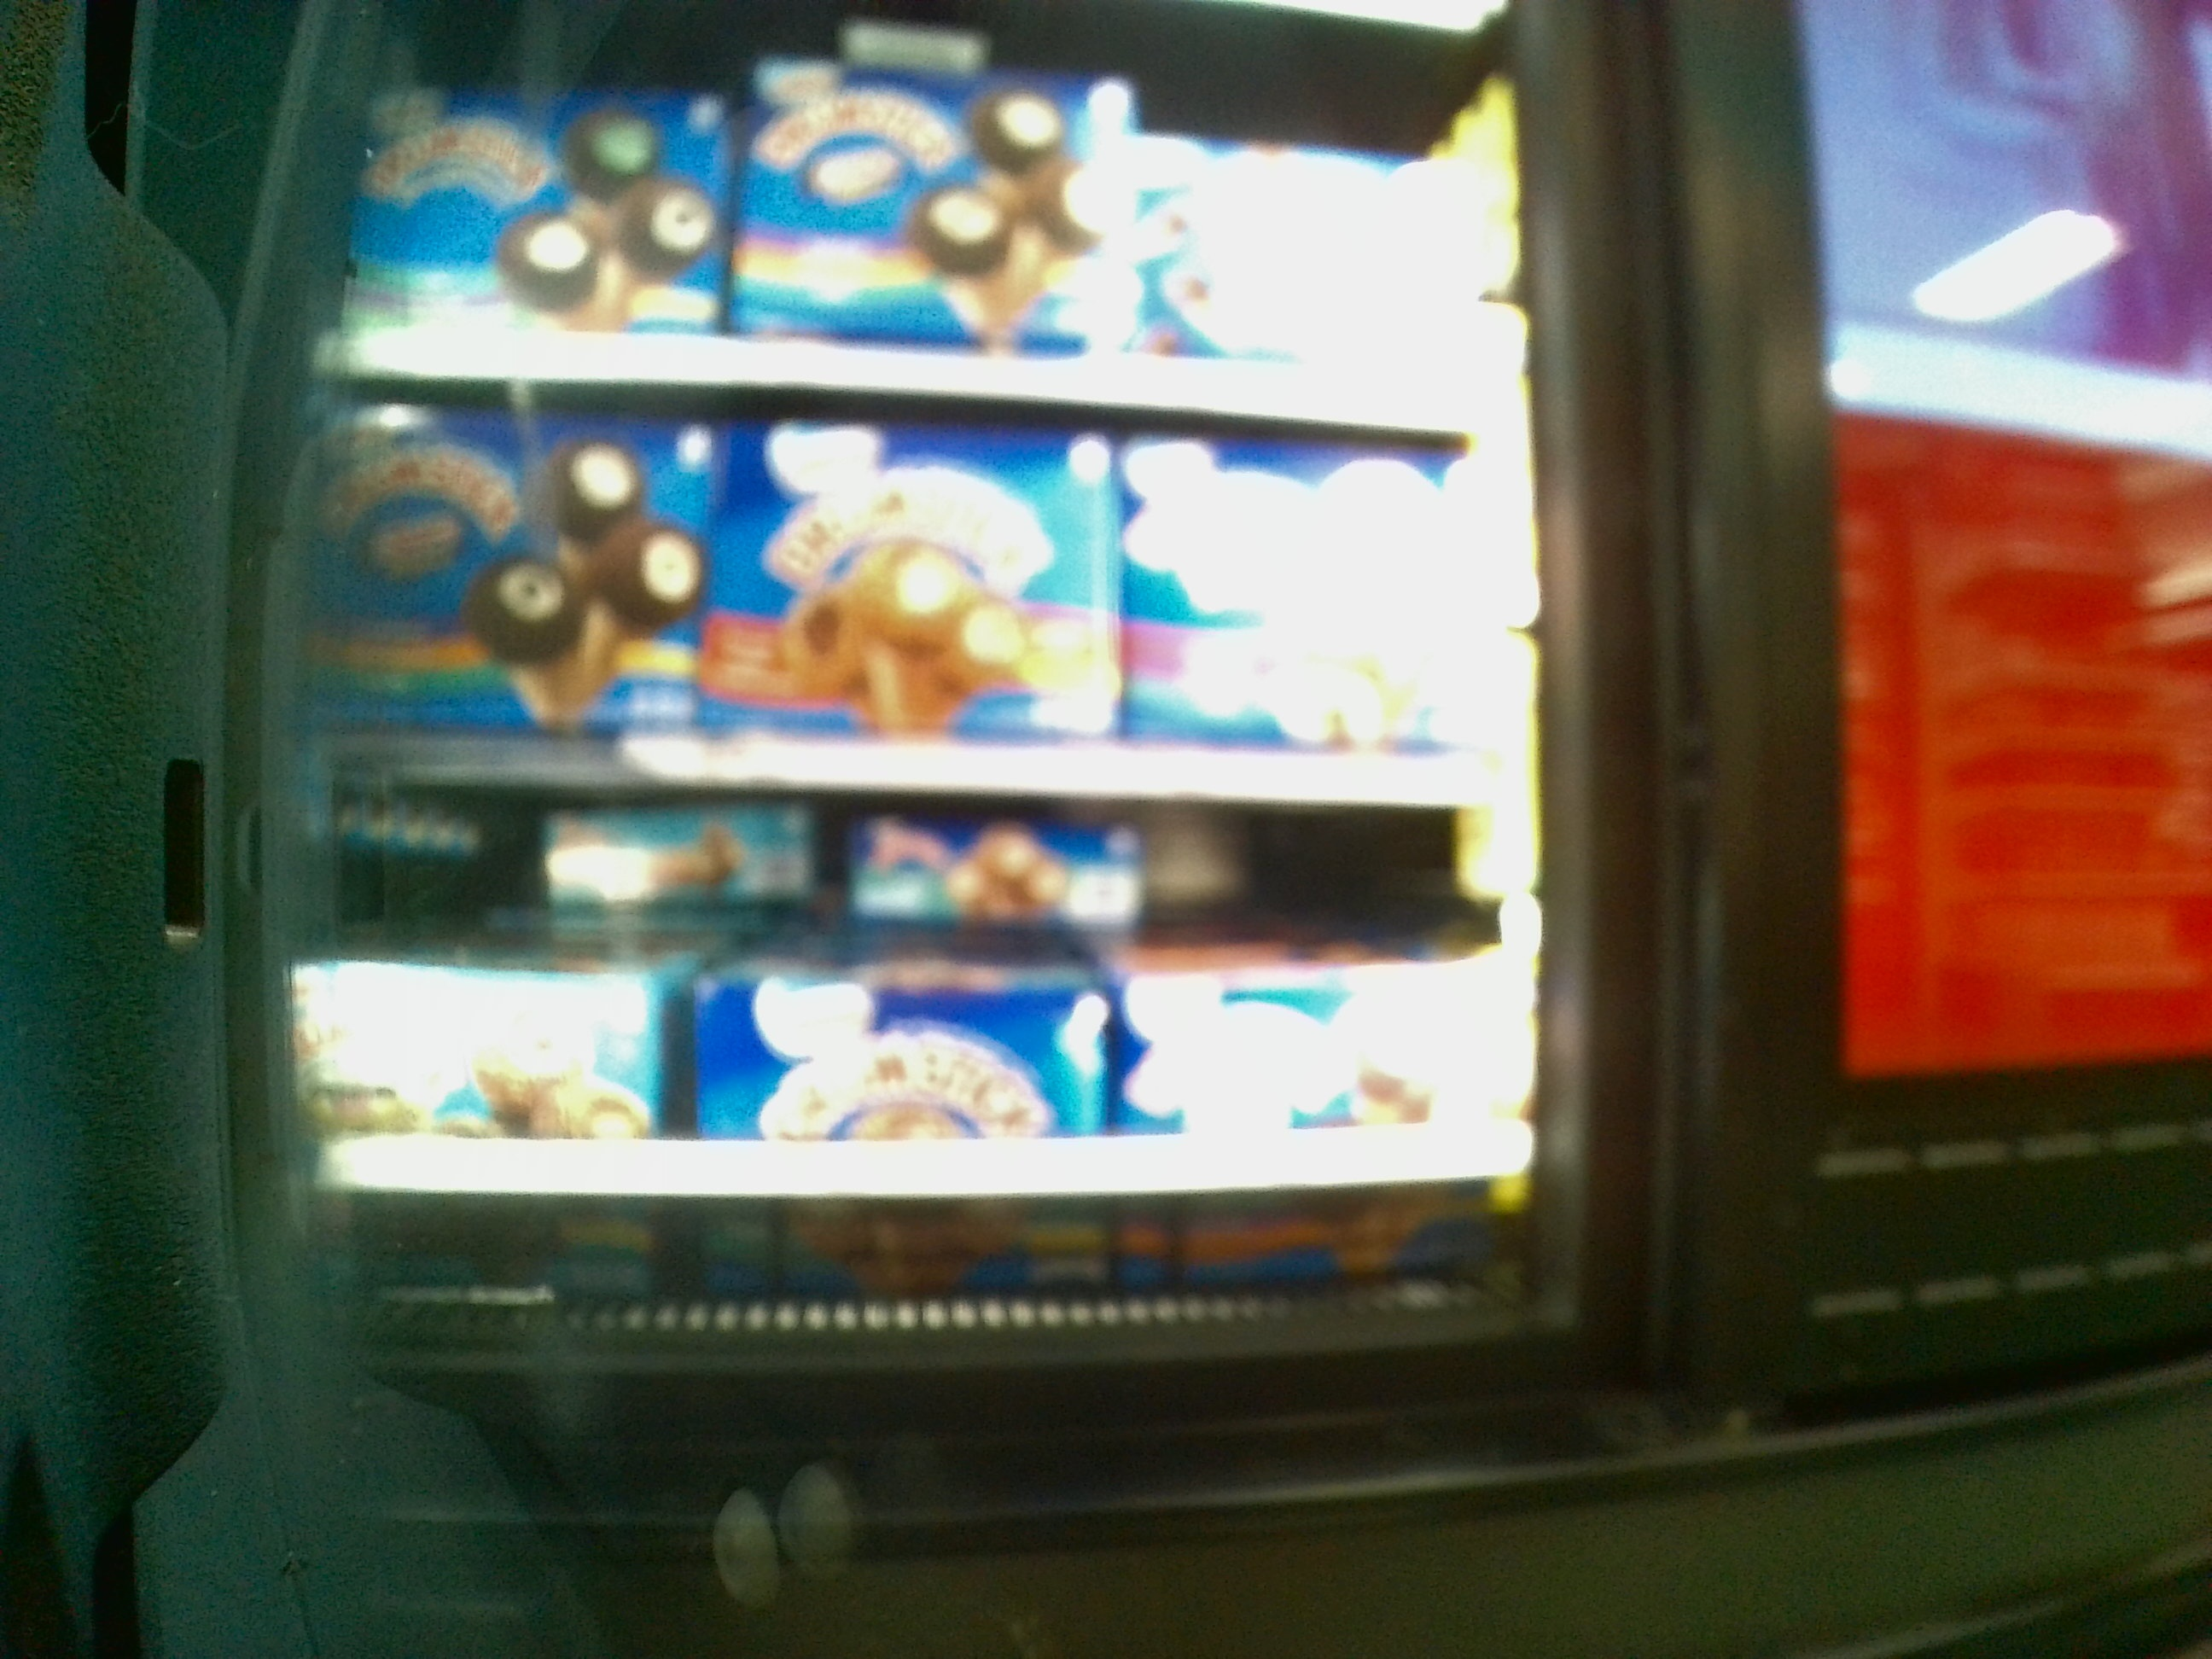shelf: (308, 791, 1517, 1290), (317, 401, 1517, 791)
